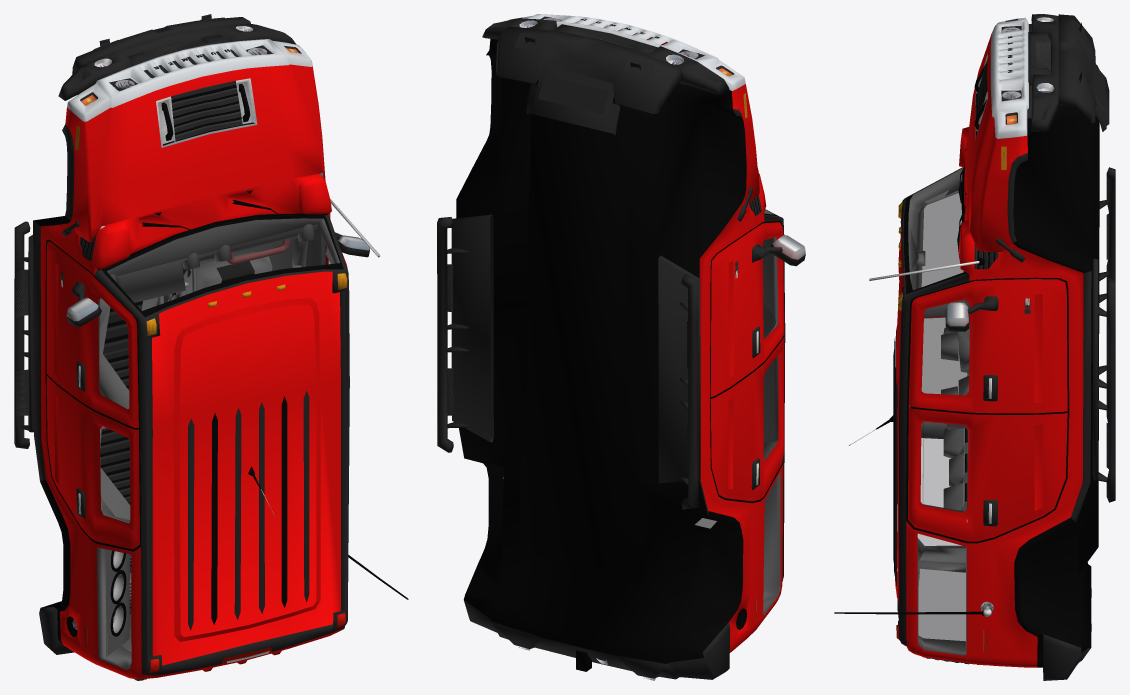
The model's file is hummer2.obj.
3 views of the same model, side by side, from view 1: azimuth 30°, elevation 25°; view 2: azimuth 150°, elevation 25°; view 3: azimuth 270°, elevation 25° (orthographic). The views are drawn at different scales.
Visible parts, largest first — view 1: Eng; view 2: Eng; view 3: Eng.
Boxes of the visible parts, x1,y1,x2,y2 form: Eng: (14,14,408,680); Eng: (437,14,805,680); Eng: (834,14,1115,680).
Size of the model in its own units: 2.17 by 4.2 by 1.82.
Materials: 2 (2 with a texture image).
